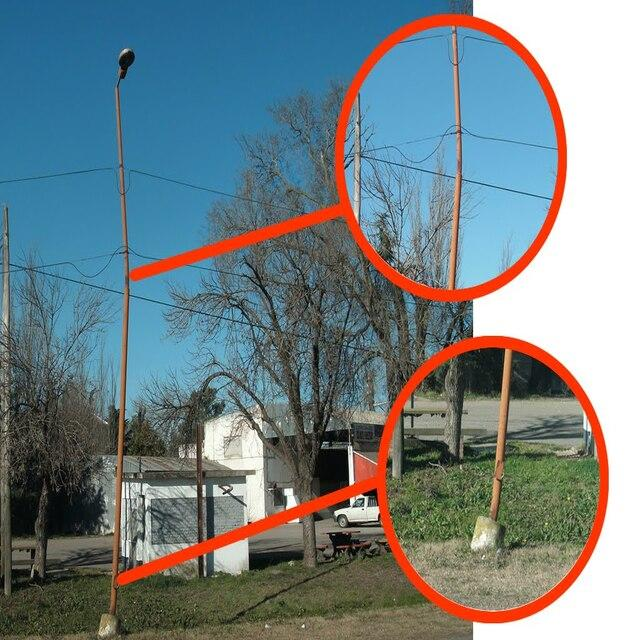Inclined Pole: (94, 36, 138, 632)
